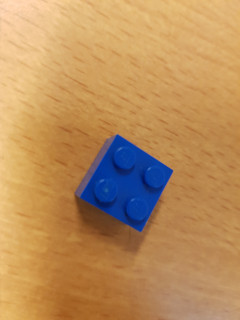2x2 blue: (72, 133, 176, 235)
